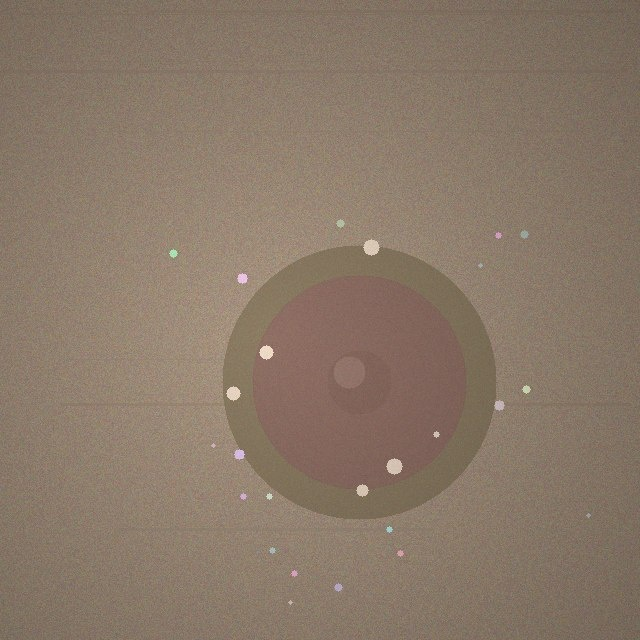overburn: (222, 245, 496, 519)
